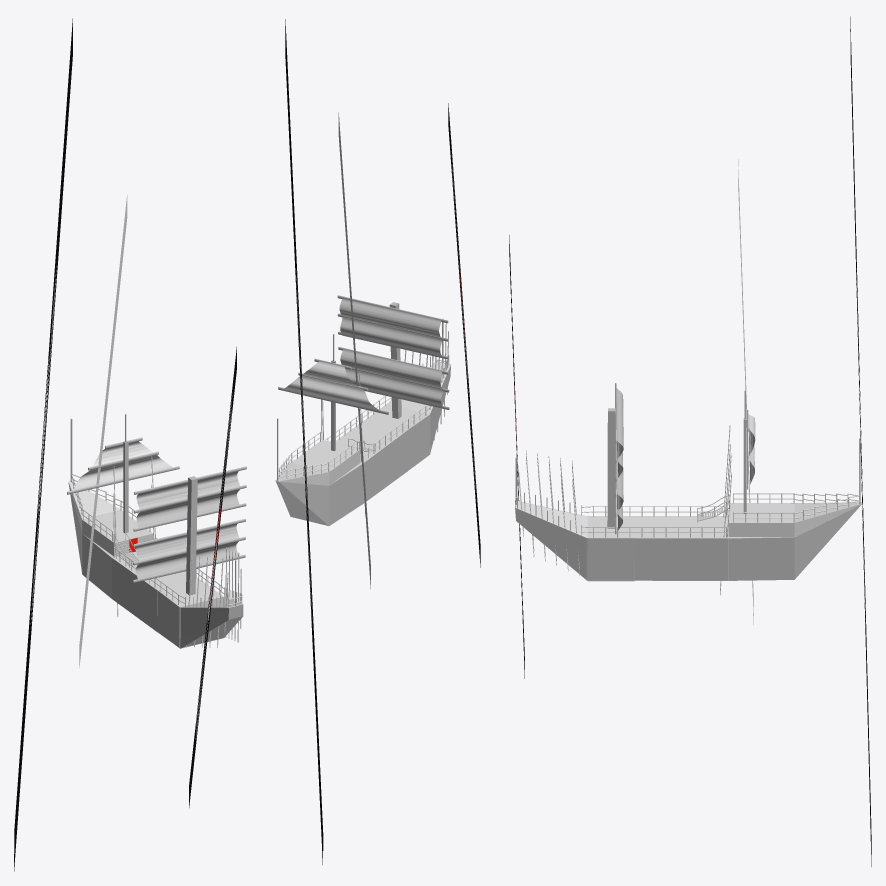
File: pirate_ship.fbx
3 views of the same model, side by side, from view 1: azimuth 30°, elevation 25°; view 2: azimuth 150°, elevation 25°; view 3: azimuth 270°, elevation 25° (orthographic). The views are drawn at different scales.
Parts seen in each view (by area): view 1: Cube.008, Cube, Cube.003, Plane, Cube.004, Cube.002, Plane.002, Plane.001, Cube.005, Cube.013, Cube.006; view 2: Cube.008, Cube, Cube.003, Cube.004, Cube.002, Plane, Plane.001, Cube.013, Plane.002; view 3: Cube.007, Cube, Cube.013, Plane, Cube.005.
Boxes of the visible parts, x1,y1,x2,y2 form: Cube.008: (68, 483, 243, 648); Cube: (68, 481, 243, 648); Cube.003: (136, 471, 239, 527); Plane: (14, 18, 72, 871); Cube.004: (135, 524, 239, 578); Cube.002: (73, 441, 172, 490); Plane.002: (79, 195, 127, 667); Plane.001: (189, 347, 236, 807); Cube.005: (186, 476, 197, 595); Cube.013: (83, 510, 152, 555); Cube.006: (123, 441, 128, 533); Cube.008: (276, 361, 450, 525); Cube: (275, 361, 450, 525); Cube.003: (339, 298, 442, 357); Cube.004: (340, 349, 442, 408); Cube.002: (283, 361, 381, 412); Plane: (285, 19, 323, 864); Plane.001: (448, 103, 480, 567); Cube.013: (292, 440, 360, 473); Plane.002: (338, 112, 370, 588); Cube.007: (515, 504, 861, 580); Cube: (515, 500, 861, 581); Cube.013: (728, 503, 794, 536); Plane: (850, 16, 871, 866); Cube.005: (607, 408, 615, 528).
Bounding box in the file's own units: 586 × 4145 × 1542.
